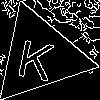K: (15, 30, 58, 82)
